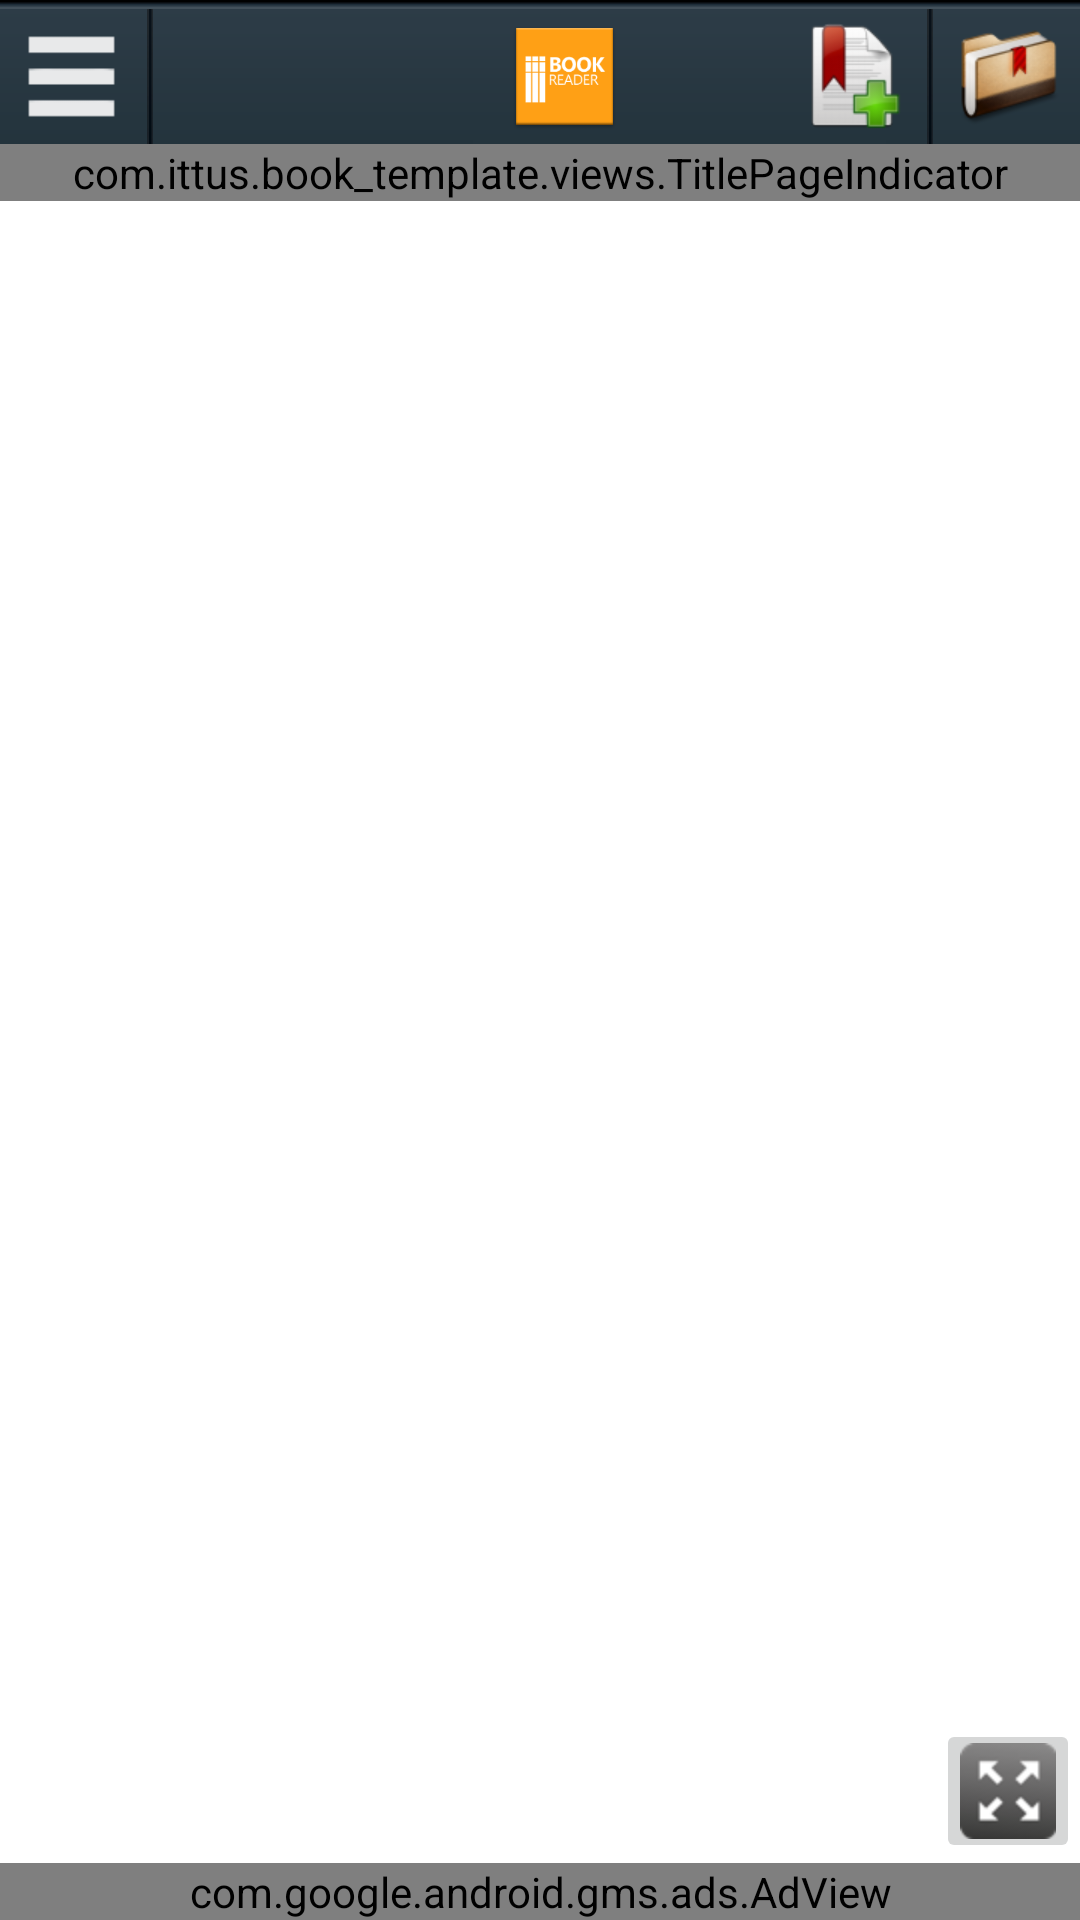

Named icons in this screenshot (1080 × 1920) and their centers, [x,y]:
bookmark: [855,76]
bookmark folder: [1008,76]
fullscreen: [1008,1791]
